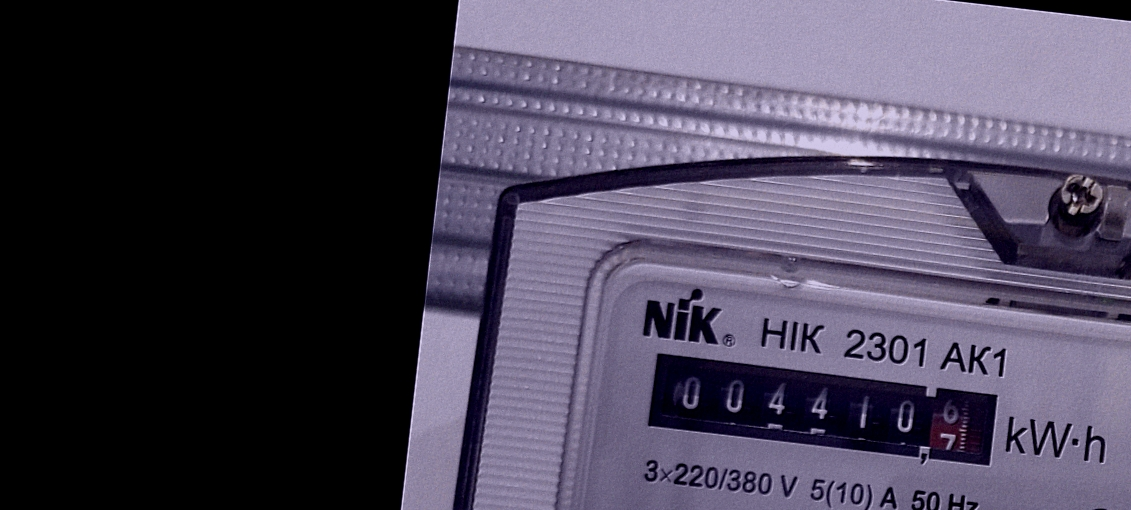0: (680, 372, 705, 412), (895, 397, 919, 435), (725, 376, 747, 415)
1: (856, 393, 873, 431)
4: (808, 383, 834, 424), (766, 377, 792, 417)
6: (943, 398, 963, 426)
7: (938, 430, 958, 452)
screen: (636, 340, 1013, 479)
